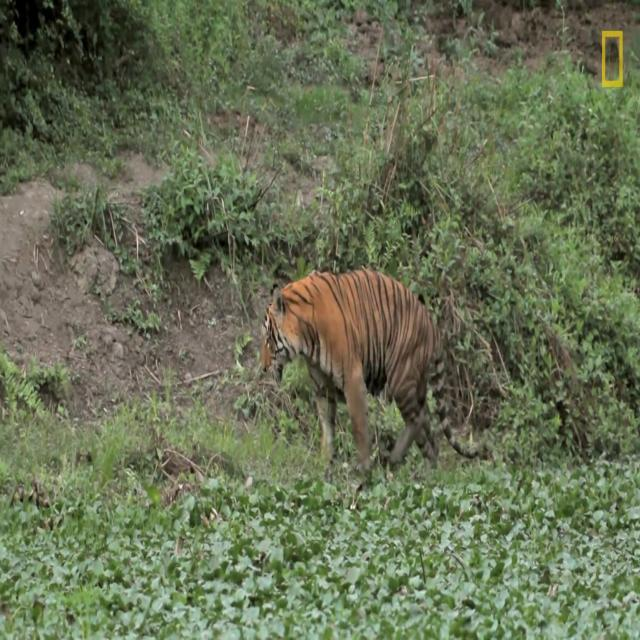TIGER: (255, 261, 481, 479)
